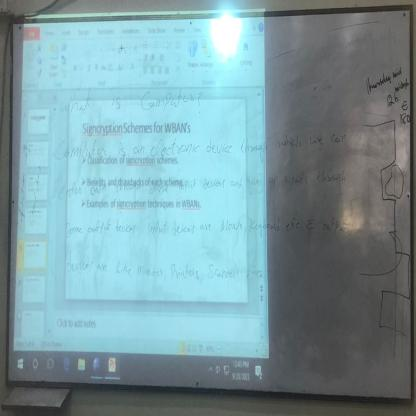Handwritten text: (55, 124, 355, 164), (61, 209, 350, 241), (60, 247, 244, 293), (52, 83, 197, 116)
Whiteboard: (3, 5, 414, 404)
